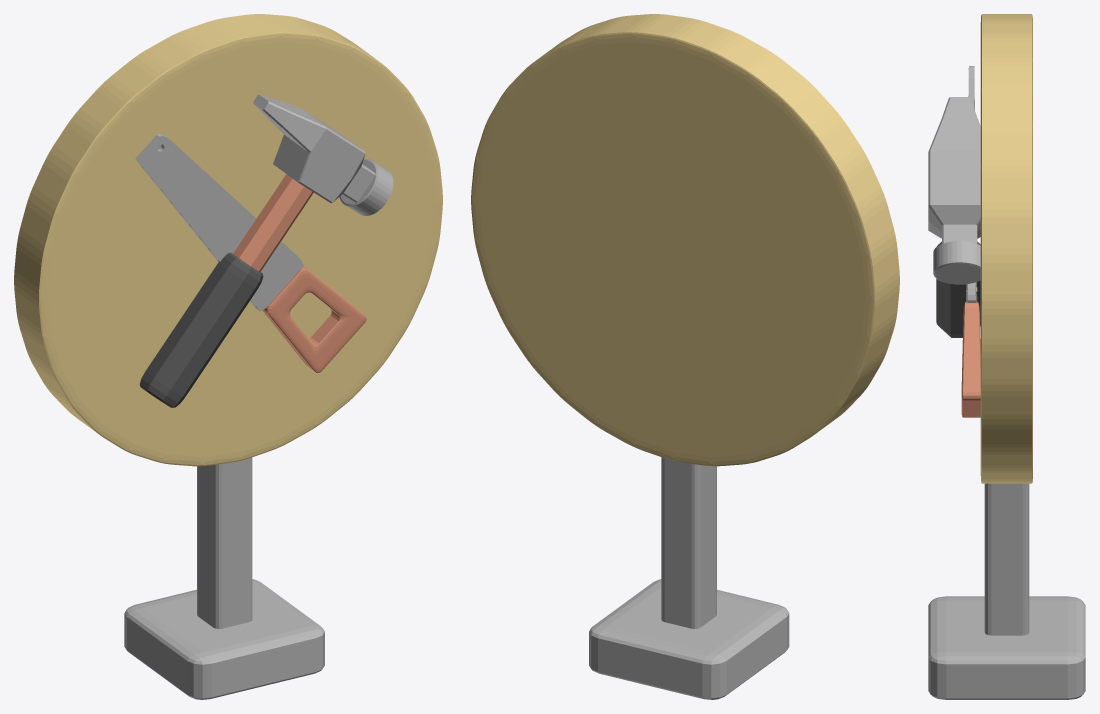
File: 망치톱.fbx
3 views of the same model, side by side, from view 1: azimuth 30°, elevation 25°; view 2: azimuth 150°, elevation 25°; view 3: azimuth 270°, elevation 25° (orthographic).
Parts seen in each view (by area): view 1: 실린더.001, 큐브.005, 큐브.004, 큐브, 실린더, 큐브.002, 큐브.003, 큐브.001; view 2: 실린더.001, 큐브.005, 큐브.004; view 3: 실린더.001, 큐브.005, 실린더, 큐브.004, 큐브.003, 큐브.002, 큐브.
Part boxes in pixels (x1,y1,x2,y2): 실린더.001: (14, 14, 442, 466); 큐브.005: (124, 579, 324, 699); 큐브.004: (197, 457, 252, 628); 큐브: (135, 134, 303, 311); 실린더: (253, 94, 393, 215); 큐브.002: (139, 252, 263, 407); 큐브.003: (262, 266, 366, 372); 큐브.001: (233, 174, 313, 271); 실린더.001: (471, 14, 899, 466); 큐브.005: (589, 579, 789, 699); 큐브.004: (661, 457, 716, 628); 실린더.001: (980, 14, 1032, 483); 큐브.005: (928, 596, 1085, 699); 실린더: (928, 97, 980, 284); 큐브.004: (984, 483, 1029, 635); 큐브.003: (961, 302, 980, 417); 큐브.002: (936, 241, 980, 337); 큐브: (966, 66, 977, 302).
Size of the model in its own units: 1197 by 1787 by 401.
